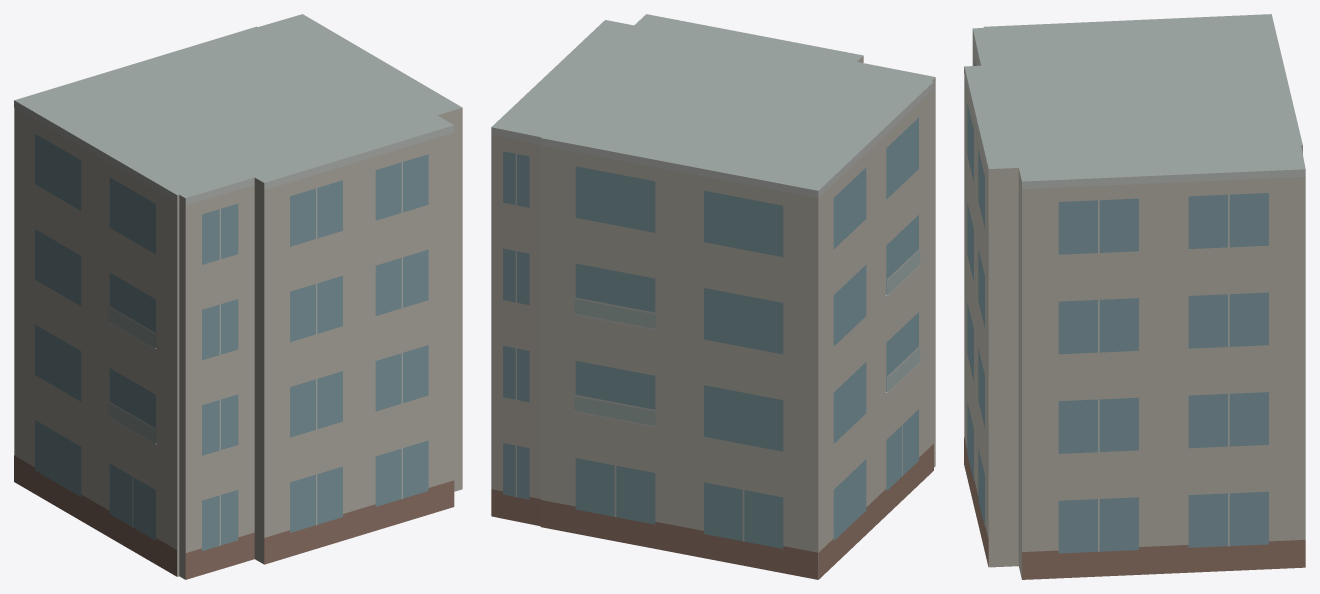
File: survey-upis-32663596.glb
3 renders of one model, left to right at view 1: azimuth 30°, elevation 25°; view 2: azimuth 150°, elevation 25°; view 3: azimuth 270°, elevation 25°, orthographic. The views are drawn at different scales.
Parts seen in each view (by area): view 1: survey-upis-32663596.tmp; view 2: survey-upis-32663596.tmp; view 3: survey-upis-32663596.tmp.
Boxes of the visible parts, left/top/right/bottom form: survey-upis-32663596.tmp: left=14, top=14, right=462, bottom=579; survey-upis-32663596.tmp: left=491, top=14, right=935, bottom=579; survey-upis-32663596.tmp: left=964, top=14, right=1305, bottom=579.
Size of the model in its own units: 11.61 by 12.86 by 10.
